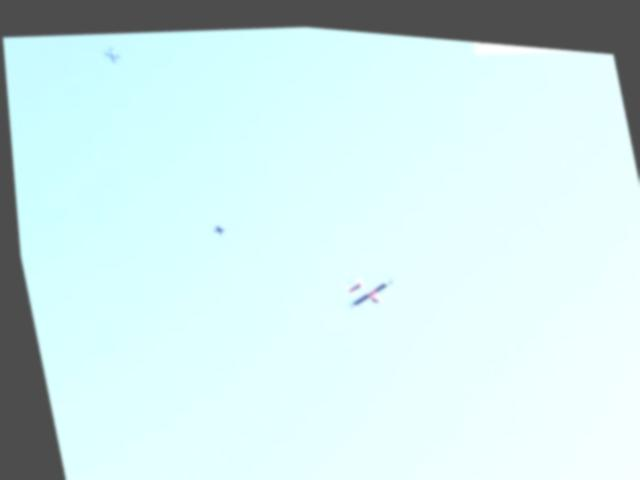uav: (331, 256, 402, 317)
